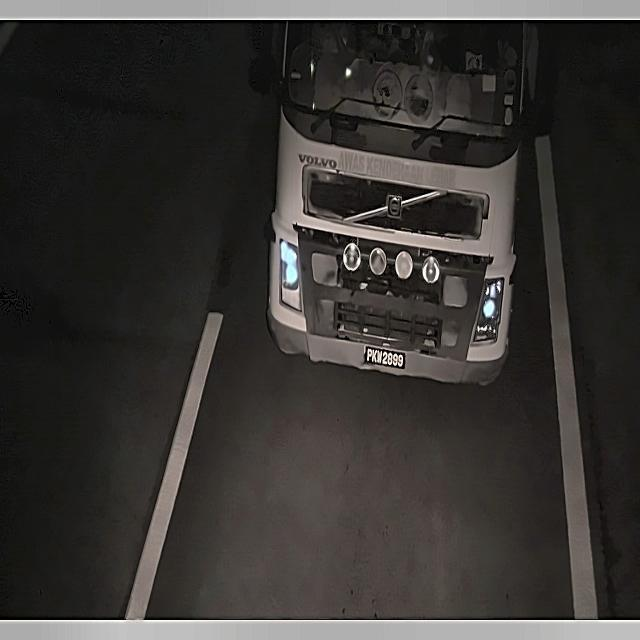car: (358, 343, 408, 375)
